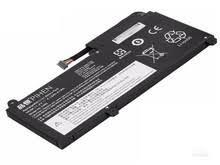battery: (6, 0, 213, 149)
